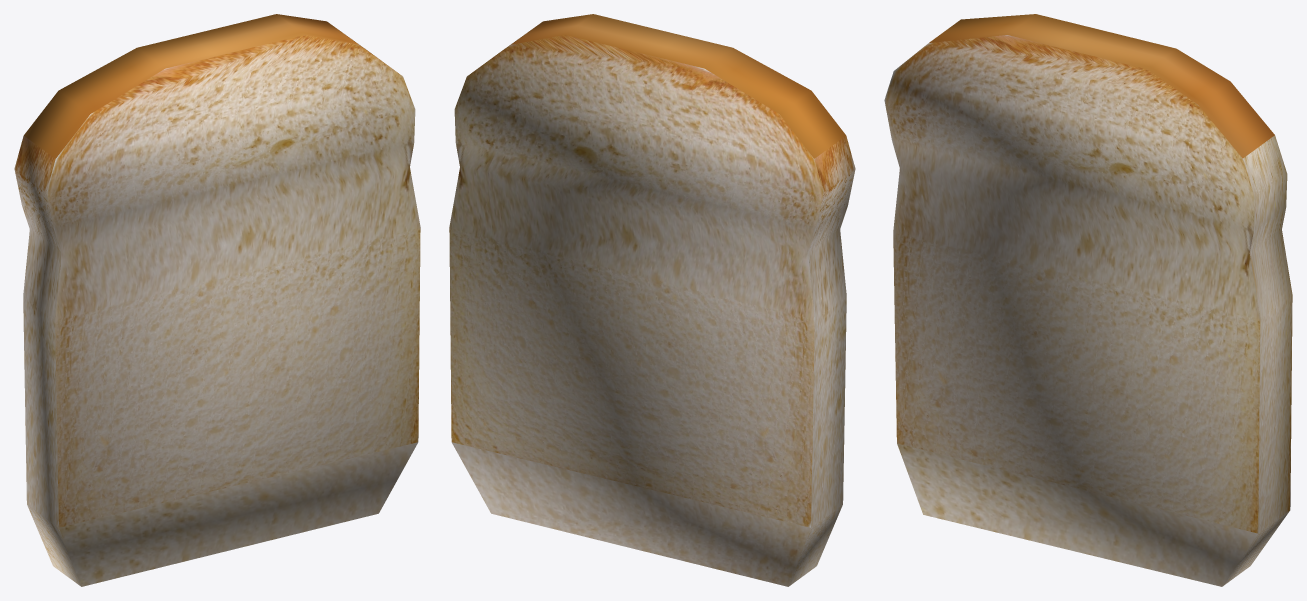
File: bread.fbx
3 views of the same model, side by side, from view 1: azimuth 30°, elevation 25°; view 2: azimuth 150°, elevation 25°; view 3: azimuth 330°, elevation 25° (orthographic).
Parts seen in each view (by area): view 1: Cube; view 2: Cube; view 3: Cube.
Part boxes in pixels (left/top/right/bottom): Cube: left=14, top=14, right=420, bottom=586; Cube: left=449, top=14, right=855, bottom=586; Cube: left=884, top=14, right=1292, bottom=586.
Size of the model in its own units: 690 by 878 by 102.
